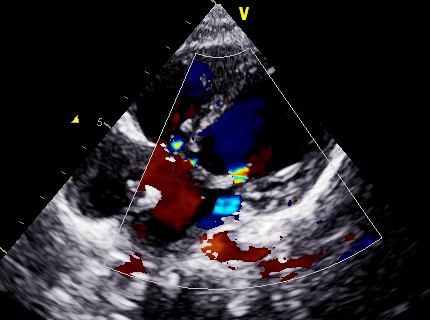MR: (191, 158, 253, 215)
